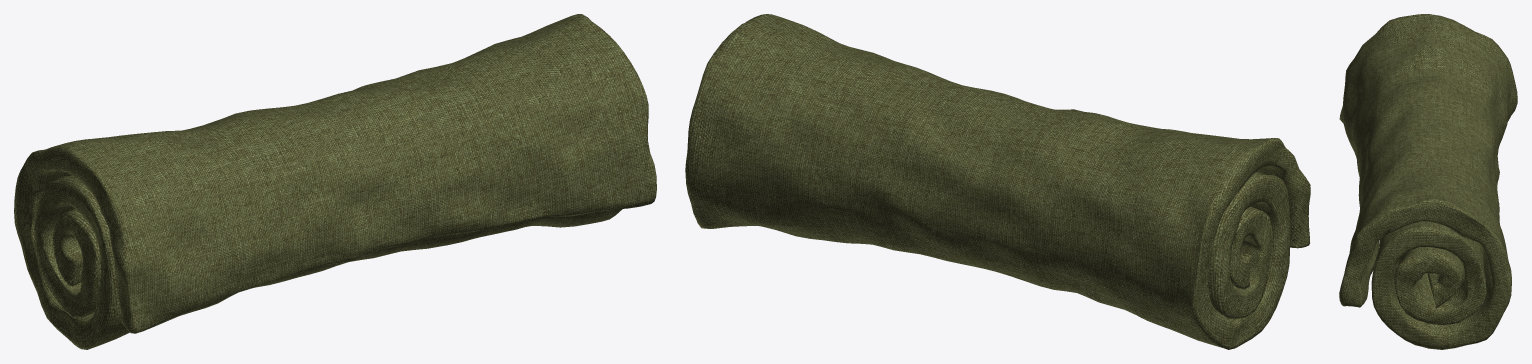
The model's file is towelroll.fbx.
3 renders of one model, left to right at view 1: azimuth 30°, elevation 25°; view 2: azimuth 150°, elevation 25°; view 3: azimuth 270°, elevation 25°, orthographic. The views are drawn at different scales.
Visible parts, largest first — view 1: polySurface2335; view 2: polySurface2335; view 3: polySurface2335.
Part boxes in pixels (x1,y1,x2,y2): polySurface2335: [14, 14, 656, 349]; polySurface2335: [685, 14, 1310, 349]; polySurface2335: [1339, 14, 1517, 349].
Bounding box in the file's own units: 5.29 × 1.88 × 2.05.
1 material, 1 textured.
